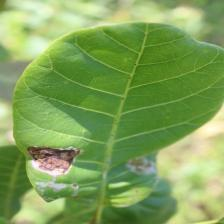leaf miner: (11, 20, 224, 223), (25, 145, 80, 176)
